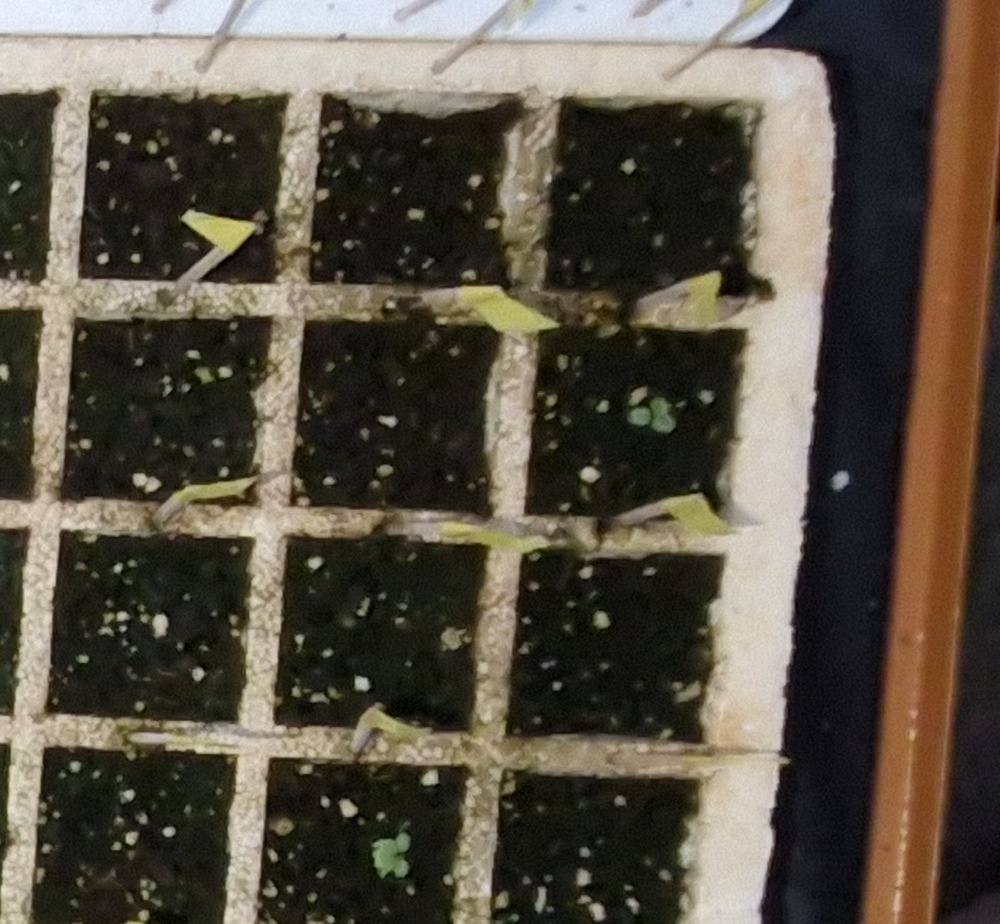Folha: (372, 838, 397, 878), (653, 412, 676, 434), (630, 408, 651, 426), (649, 398, 670, 415), (396, 833, 410, 852), (394, 859, 408, 877)
Germinacao: (371, 830, 412, 877), (629, 396, 674, 431)
